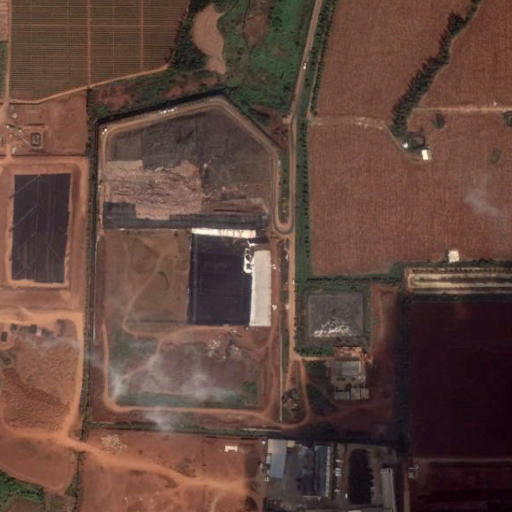lf: (101, 105, 271, 231), (191, 223, 249, 326)
